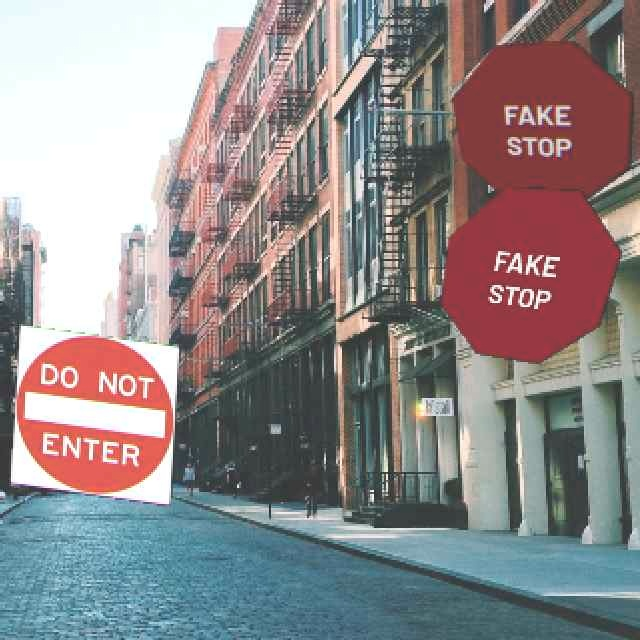DO_NOT_ENTER: (8, 322, 178, 505)
FAKE_STOP: (438, 184, 621, 363), (450, 38, 633, 207)
